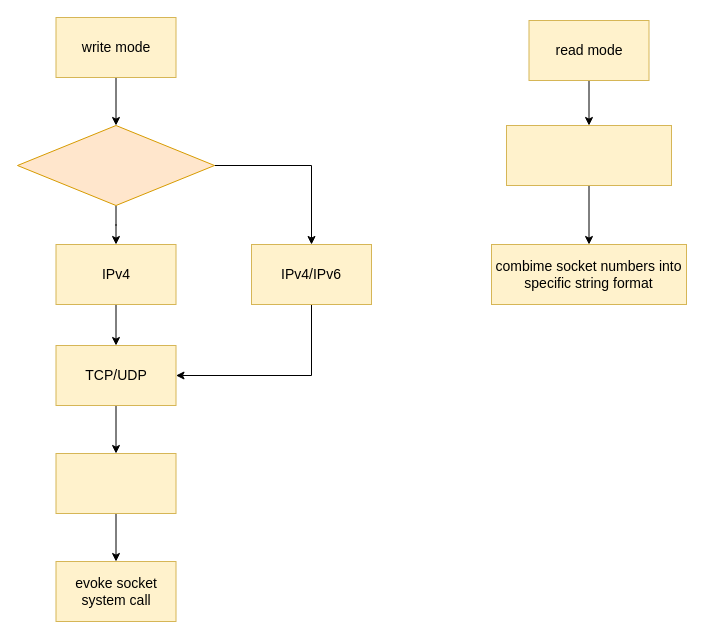
Some shapes in this 704 by 639 pixel diagram are drawn without their labels. Here are the shapes that lost their labels. From the top down, the box of each, then its label:
(16, 124, 214, 206): argument number = 1?
(506, 124, 672, 186): obtain socket numbers from instance
(55, 452, 176, 514): Iterate all instance
